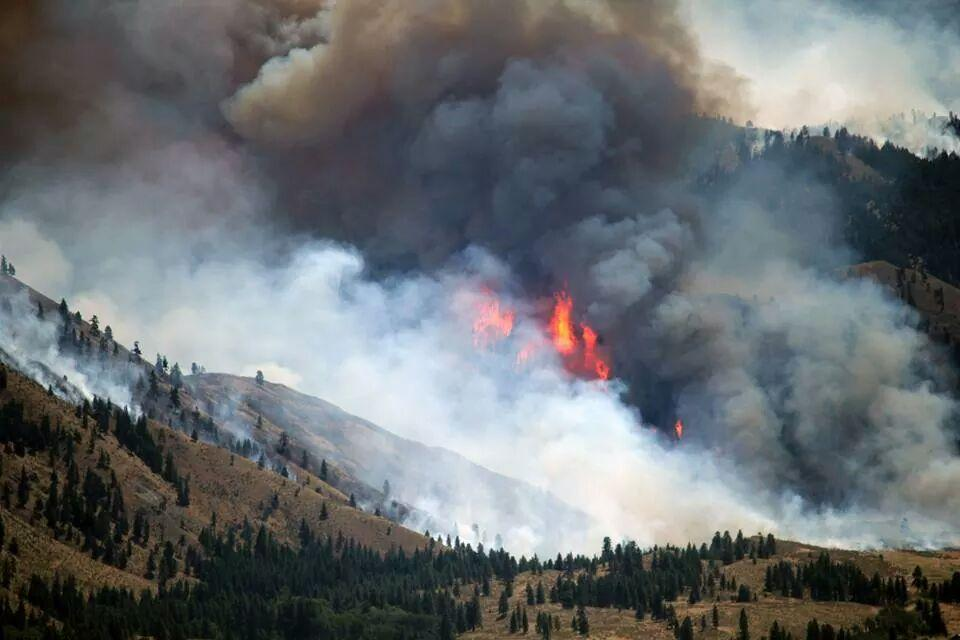Fire: (469, 279, 688, 446)
